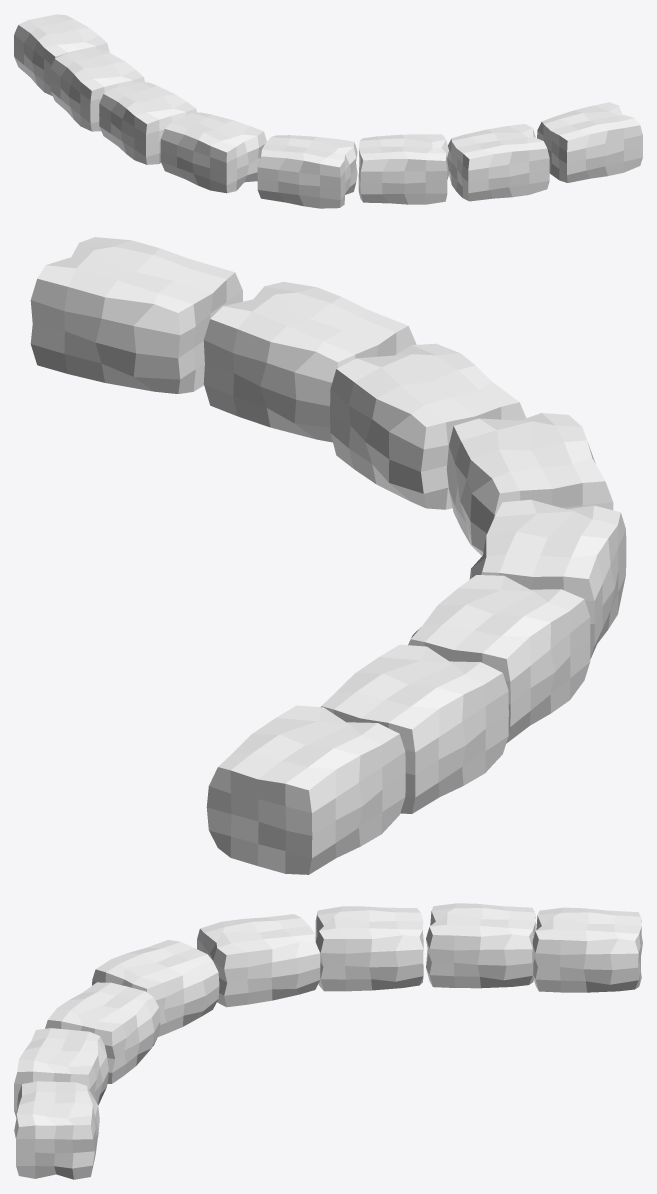
Rendered from Steinmauer_halb2.fbx.
The picture shows the model from 3 angles, top to bottom: view 1: azimuth 30°, elevation 25°; view 2: azimuth 150°, elevation 25°; view 3: azimuth 270°, elevation 25°; orthographic projection. The views are drawn at different scales.
Visible parts, largest first — view 1: Steinblock.002; view 2: Steinblock.002; view 3: Steinblock.002.
Part boxes in pixels (bbox=[...]): Steinblock.002: bbox=[14, 14, 642, 208]; Steinblock.002: bbox=[30, 237, 626, 874]; Steinblock.002: bbox=[14, 903, 642, 1179].
Bounding box in the file's own units: 715 × 89.21 × 845.
